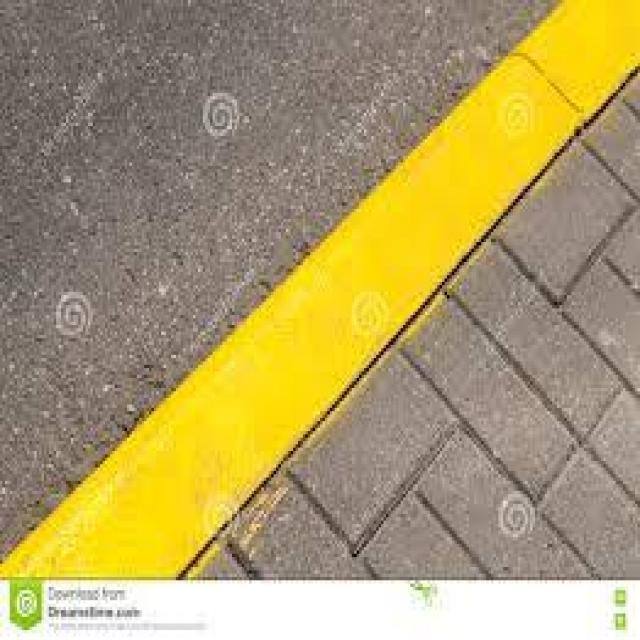curb: (8, 1, 640, 582)
